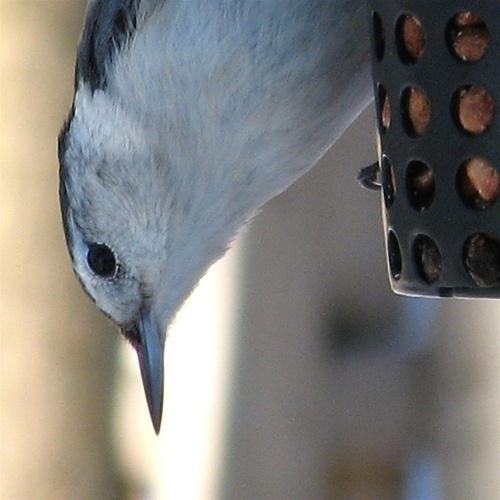bird: (58, 1, 373, 437)
